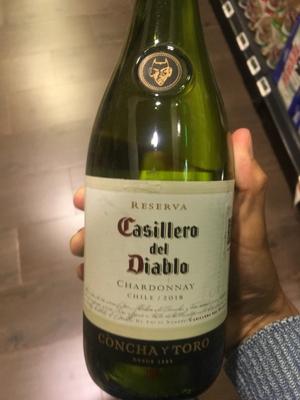casillero del diablo chardonnay: (73, 23, 251, 387)
